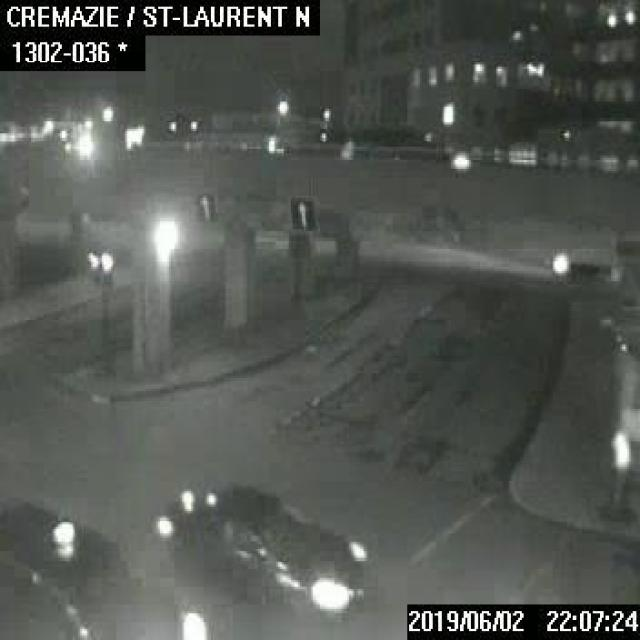vehicle: (160, 480, 369, 620), (0, 504, 124, 638)
